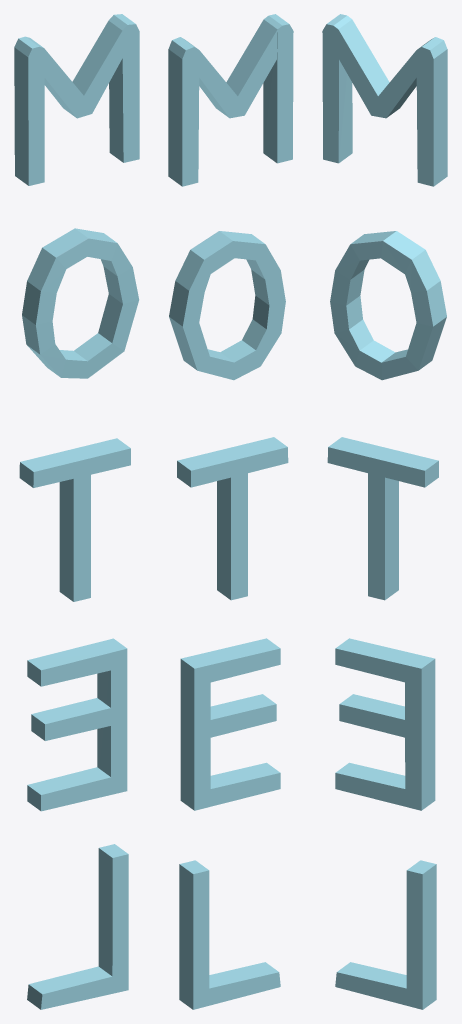
File: Props-TextBanner-Motel_MOTEL.fbx
3 renders of one model, left to right at view 1: azimuth 30°, elevation 25°; view 2: azimuth 210°, elevation 25°; view 3: azimuth 330°, elevation 25°, orthographic.
Visible parts, largest first — view 1: Props-TextBanner-Motel_MOTEL; view 2: Props-TextBanner-Motel_MOTEL; view 3: Props-TextBanner-Motel_MOTEL.
Boxes of the visible parts, bbox=[...] form: Props-TextBanner-Motel_MOTEL: bbox=[14, 14, 139, 1009]; Props-TextBanner-Motel_MOTEL: bbox=[168, 14, 293, 1009]; Props-TextBanner-Motel_MOTEL: bbox=[322, 14, 447, 1009].
Bounding box in the file's own units: 22.69 × 188 × 4.98.
